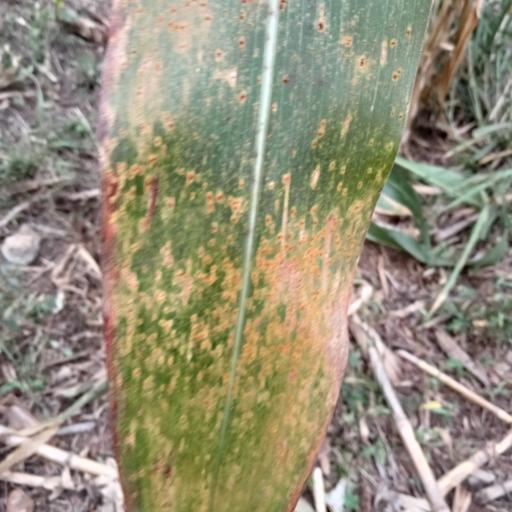Corn_Rust: (96, 0, 446, 512)
